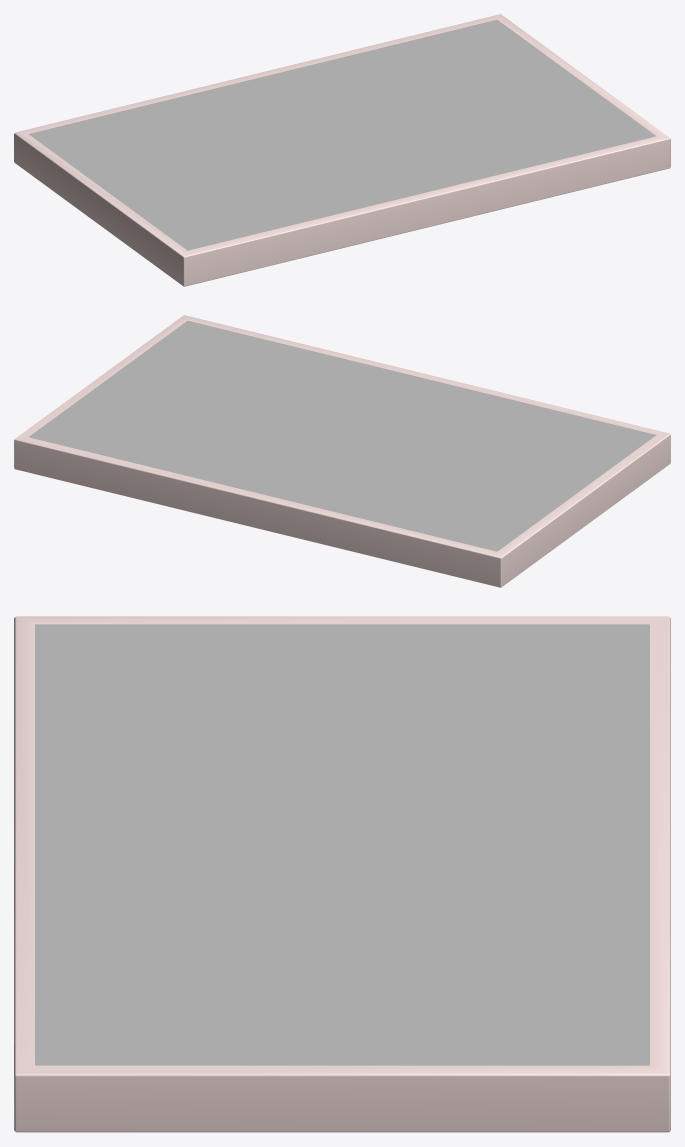
Rendered from Public_18_Base_1.glb.
The picture shows the model from 3 angles, top to bottom: view 1: azimuth 30°, elevation 25°; view 2: azimuth 150°, elevation 25°; view 3: azimuth 270°, elevation 25°; orthographic projection. The views are drawn at different scales.
Visible parts, largest first — view 1: Public_18_Base_1; view 2: Public_18_Base_1; view 3: Public_18_Base_1.
Part boxes in pixels (bbox=[...]): Public_18_Base_1: bbox=[14, 14, 670, 286]; Public_18_Base_1: bbox=[14, 315, 670, 587]; Public_18_Base_1: bbox=[14, 616, 670, 1132].
Size of the model in its own units: 21.09 by 1.27 by 12.75.
1 material, 1 textured.
